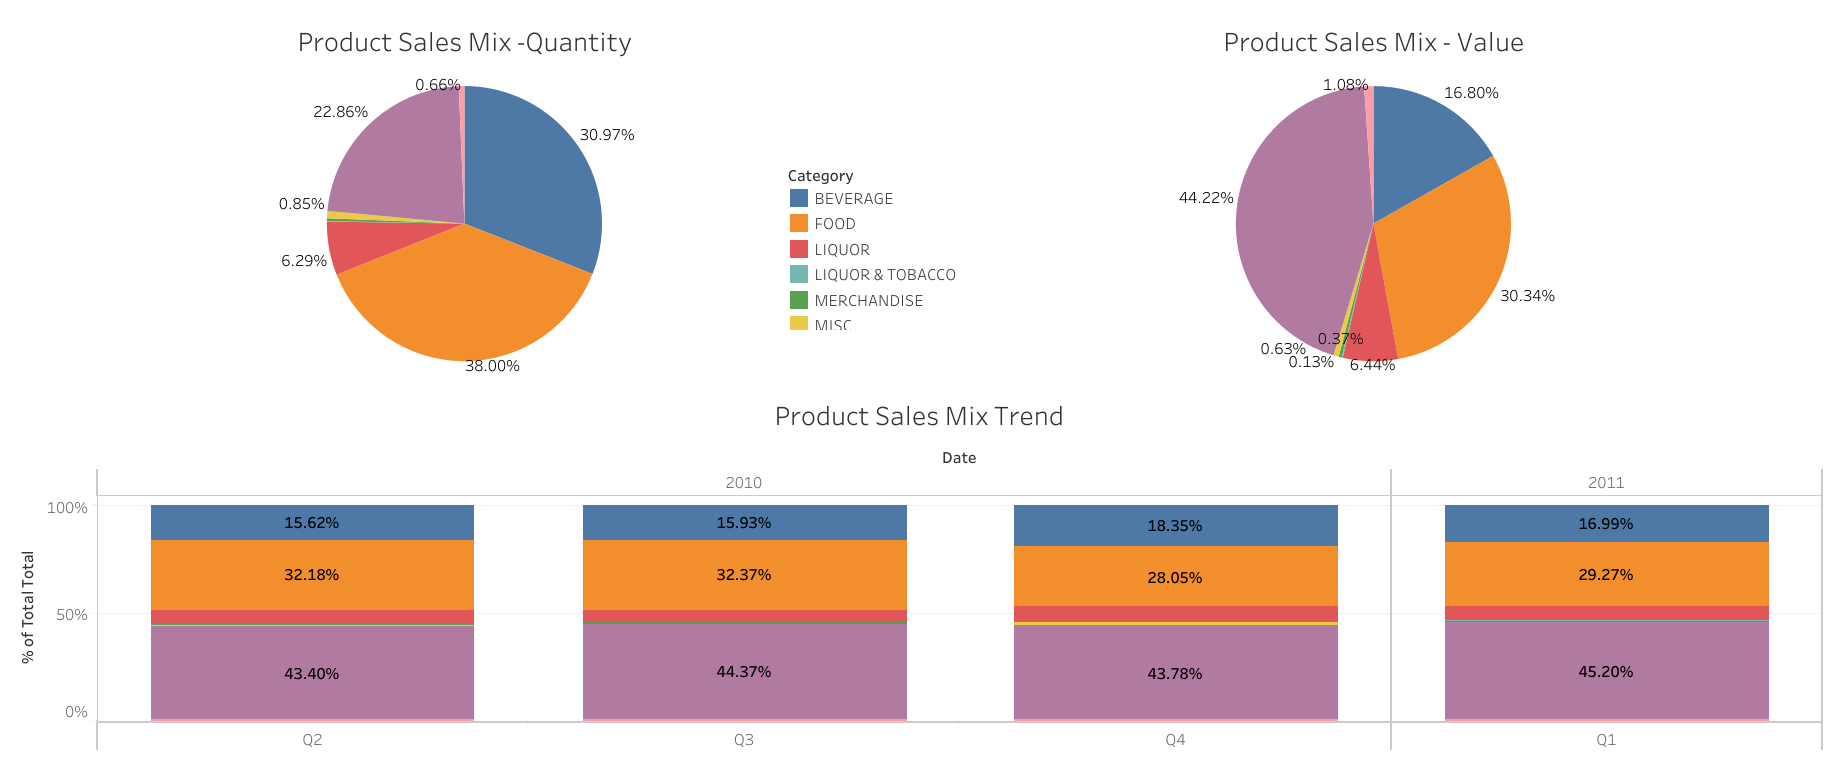

The dashboard page shown, as its layout file describes it:
{"tool":"tableau","page":{"name":"Dashboard 3","canvas":[1000,1000],"units":"permille","ordinal":1},"visuals":[{"type":"worksheet","title":"Product Sales Mix -Quantity","mark":"Pie","box":[7.2,9.9,492.9,490.1]},{"type":"worksheet","title":"Product Sales Mix - Value","mark":"Pie","box":[500,9.9,492.9,490.1]},{"type":"legend","title":"Product Sales Mix - Value","param":"[federated.15lkgnh1rbcn3y14lvla91vqe301].[none:Category:nk]","box":[428.1,210.4,125.1,220.3]},{"type":"worksheet","title":"Product Sales Mix Trend","mark":"Bar","cols":["Date","Date"],"box":[7.2,500,985.7,490.1]}]}

Visuals, with their boxes on the dashboard's canvas, which has no fixed pixel size, in thousandths of its width and height (x1, y1, x2, y2). These are canvas units, not pixel positions in the 1837x765 screenshot, which may show the page scaled, cropped or inside an application window:
"Product Sales Mix -Quantity" worksheet (Pie marks): [left=7, top=10, right=500, bottom=500]
"Product Sales Mix - Value" worksheet (Pie marks): [left=500, top=10, right=993, bottom=500]
"Product Sales Mix - Value" legend: [left=428, top=210, right=553, bottom=431]
"Product Sales Mix Trend" worksheet (Bar marks): [left=7, top=500, right=993, bottom=990]
